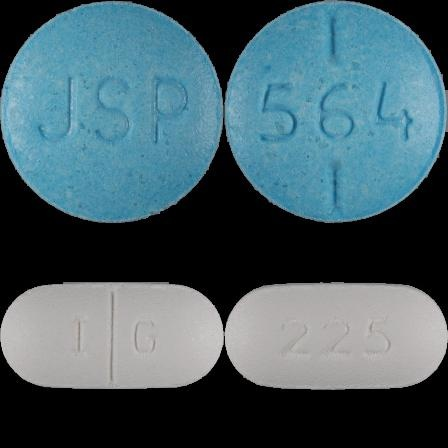66336-357: (0, 0, 224, 224)
